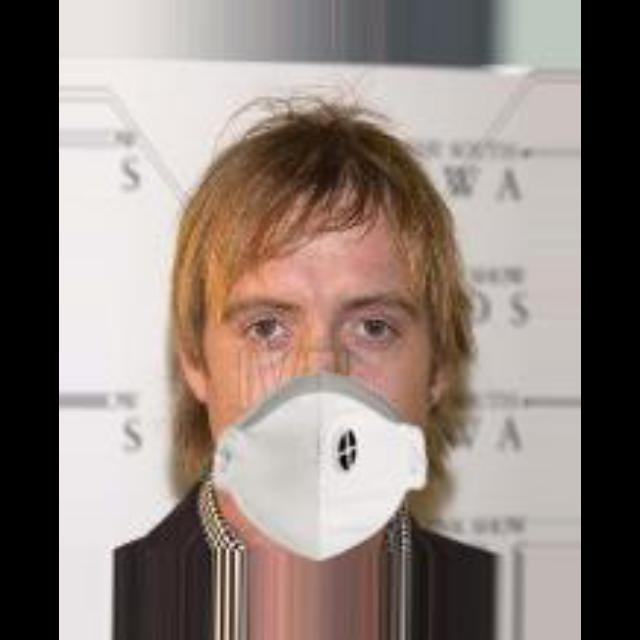suspicion: (114, 82, 506, 546)
